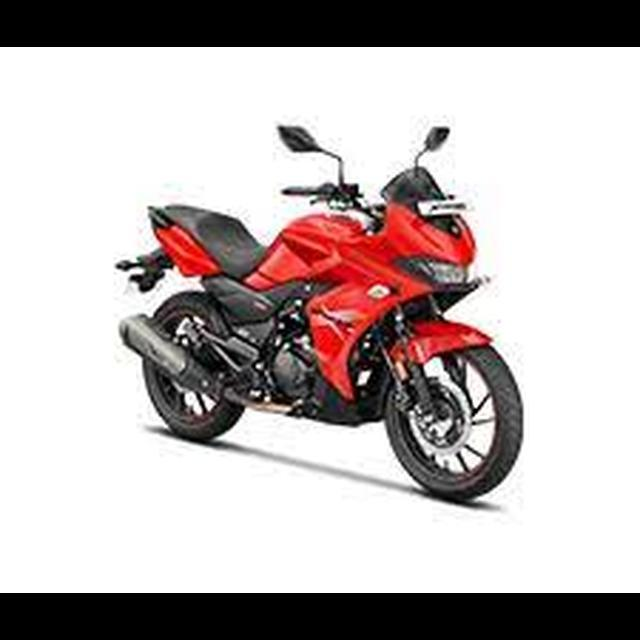motorcycle: (111, 119, 527, 506)
